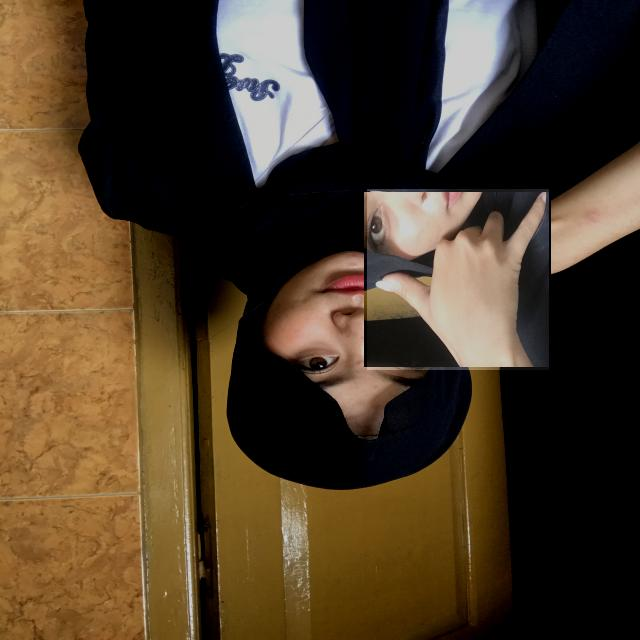telpon: (367, 189, 549, 370)
